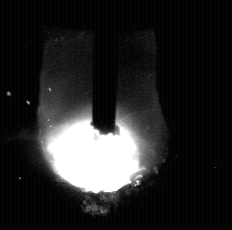arame: (93, 0, 118, 135)
poca: (37, 0, 168, 230)
